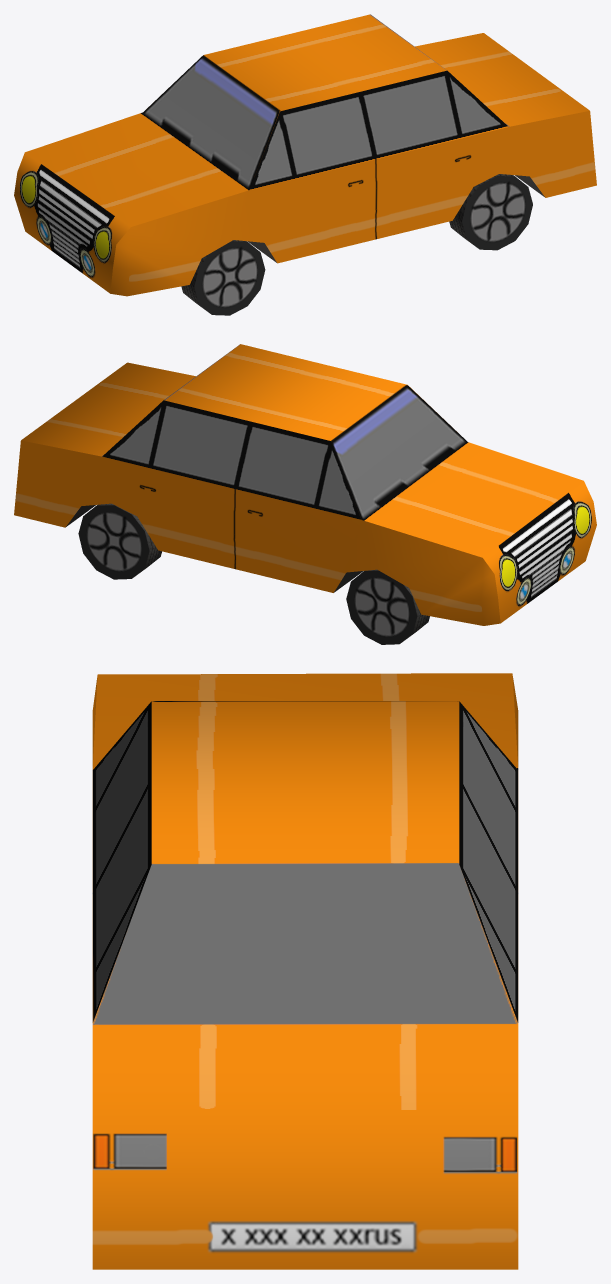
3 renders of one model, top to bottom at view 1: azimuth 30°, elevation 25°; view 2: azimuth 150°, elevation 25°; view 3: azimuth 270°, elevation 25°, orthographic. The views are drawn at different scales.
Visible parts, largest first — view 1: pickup; view 2: pickup; view 3: pickup.
Boxes of the visible parts, x1,y1,x2,y2 form: pickup: [14, 14, 596, 315]; pickup: [14, 344, 596, 644]; pickup: [92, 673, 518, 1269].
Size of the model in its own units: 132 by 47.42 by 50.74.
